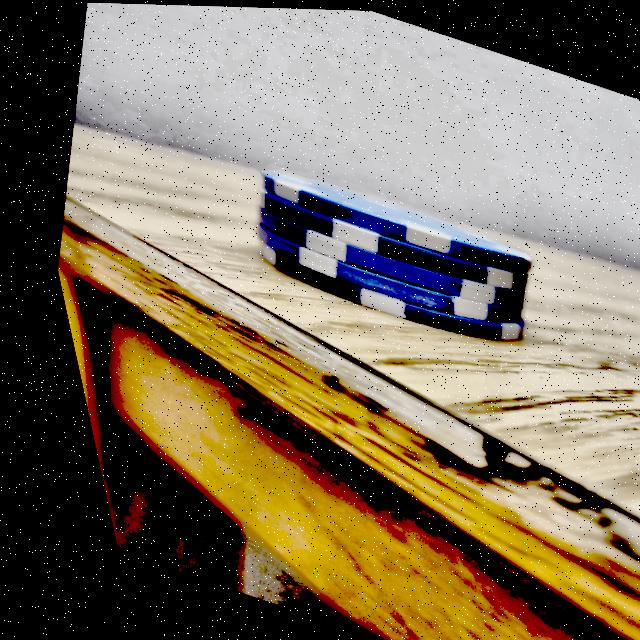Chip: (213, 153, 550, 362)
